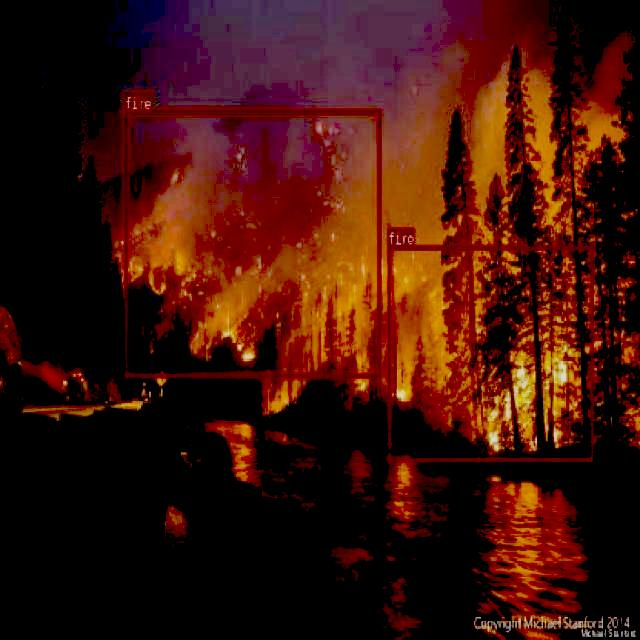fire: (124, 109, 381, 377), (387, 245, 593, 460)
